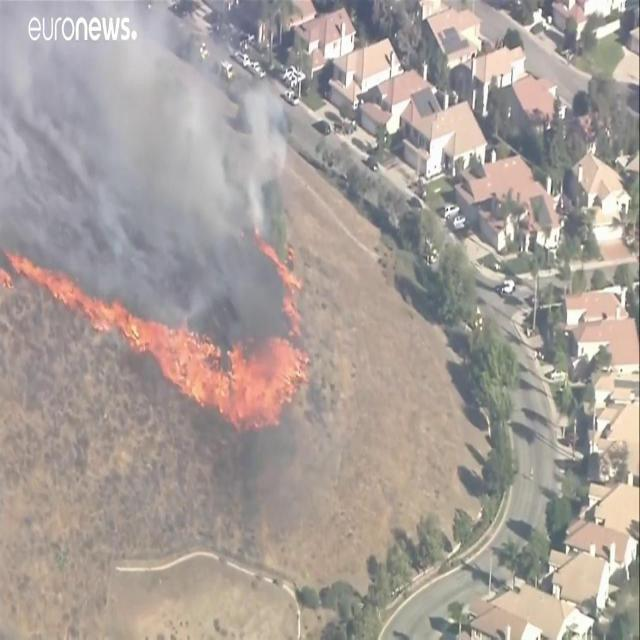Fire: (136, 317, 312, 428), (2, 255, 136, 337), (257, 238, 308, 334)
